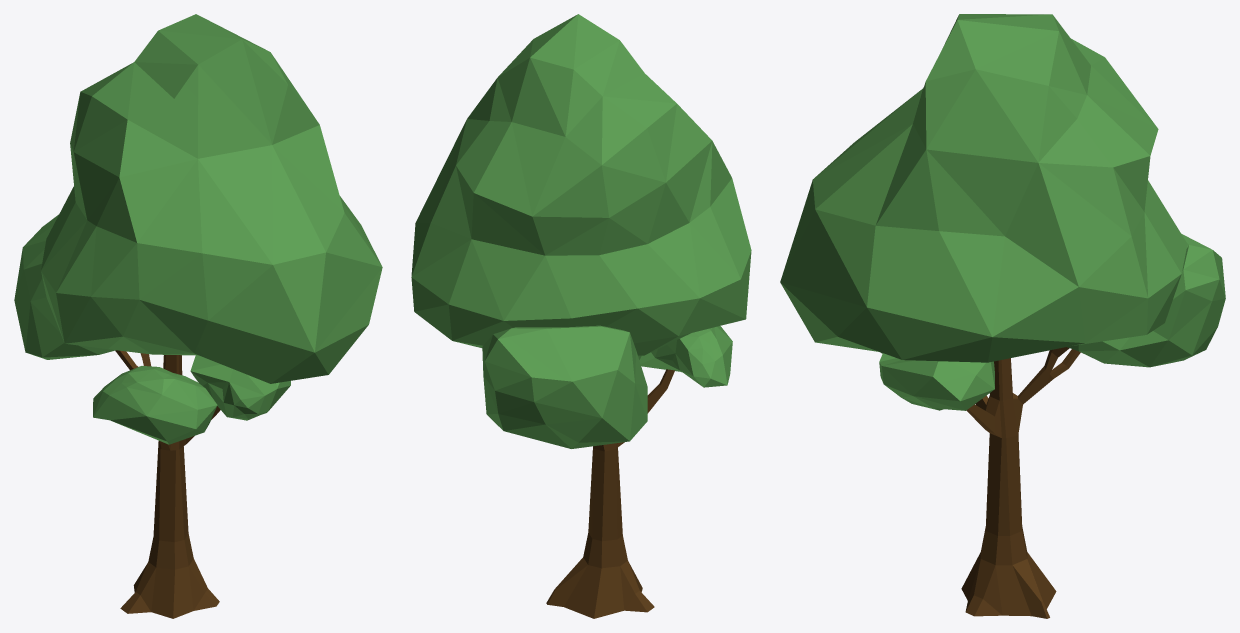
The model's file is Env_Tree03_1.fbx.
3 views of the same model, side by side, from view 1: azimuth 30°, elevation 25°; view 2: azimuth 150°, elevation 25°; view 3: azimuth 270°, elevation 25° (orthographic). The views are drawn at different scales.
Parts seen in each view (by area): view 1: Env_Tree03_1; view 2: Env_Tree03_1; view 3: Env_Tree03_1.
Boxes of the visible parts, left/top/right/bottom form: Env_Tree03_1: left=14, top=14, right=382, bottom=618; Env_Tree03_1: left=411, top=14, right=751, bottom=618; Env_Tree03_1: left=780, top=14, right=1225, bottom=618.
Size of what is drawn, in the model's own units: 345 by 400 by 598.
